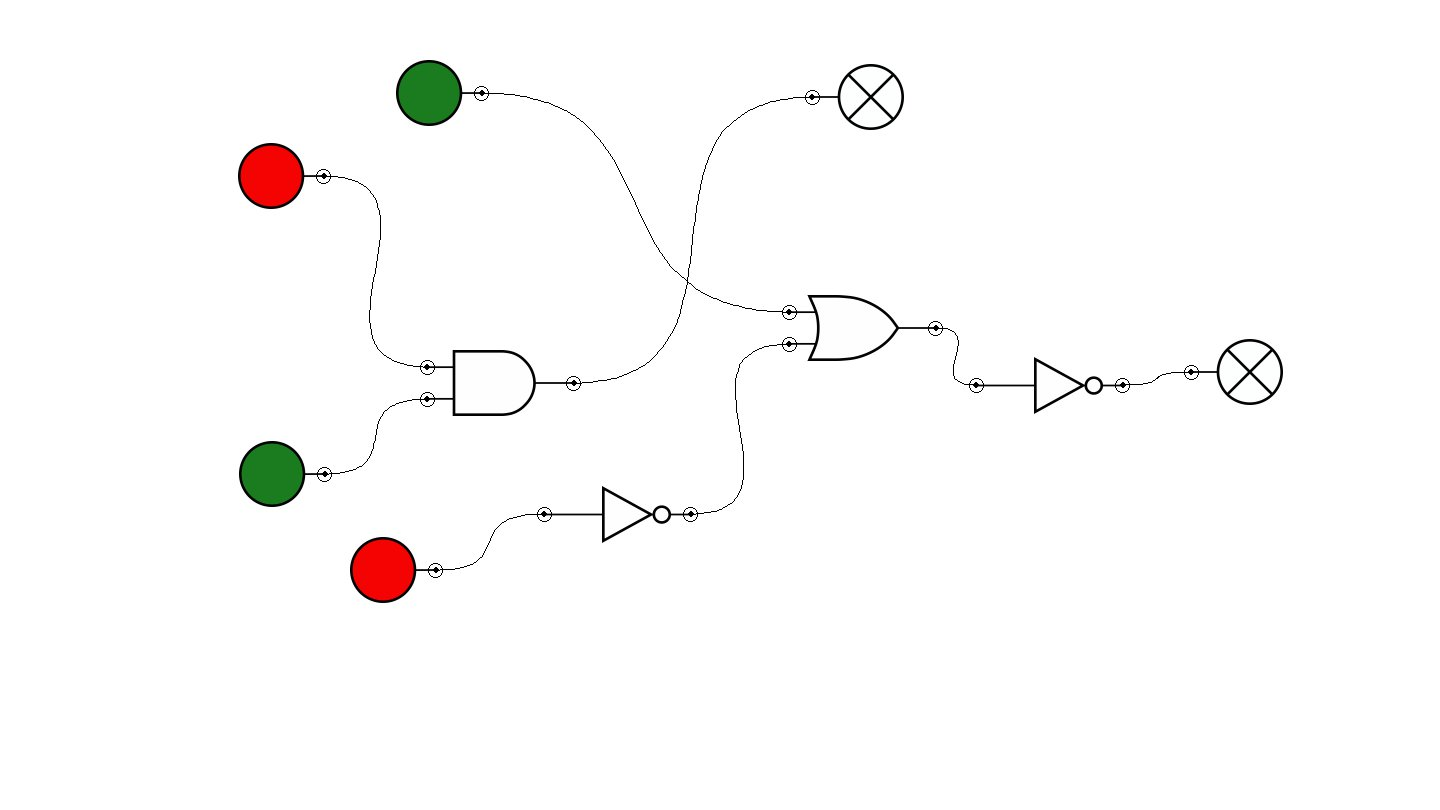and: (420, 350, 581, 416)
bulb: (1184, 339, 1283, 405), (805, 64, 904, 130)
not: (969, 357, 1130, 414), (537, 486, 698, 543)
or: (782, 295, 943, 361)
switch_False: (238, 143, 331, 209), (350, 537, 443, 603)
switch_True: (239, 441, 332, 507), (396, 60, 489, 126)
